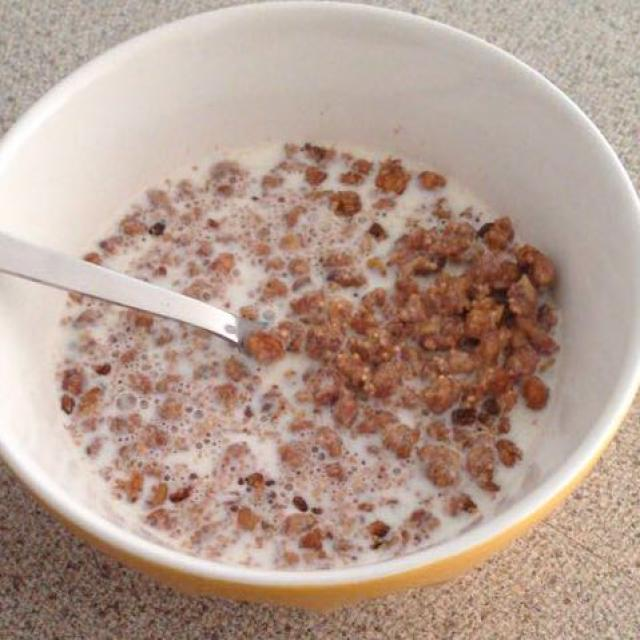milk: (43, 144, 533, 552)
